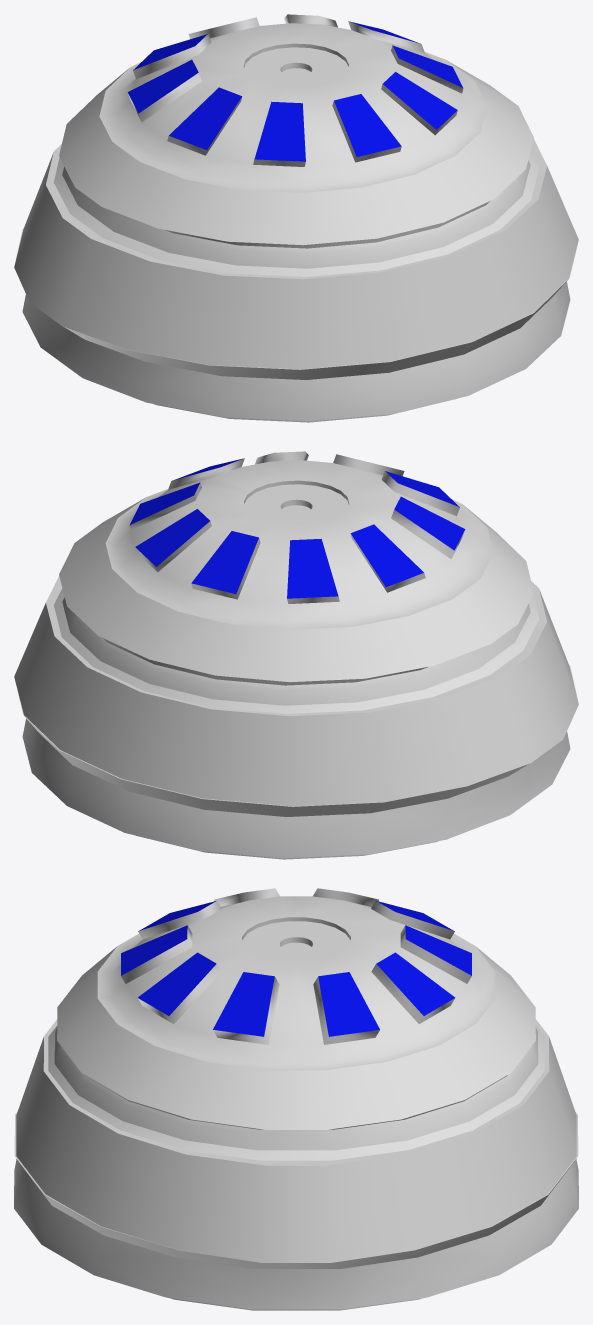
Rendered from museumDome.fbx.
3 renders of one model, top to bottom at view 1: azimuth 30°, elevation 25°; view 2: azimuth 150°, elevation 25°; view 3: azimuth 270°, elevation 25°, orthographic. The views are drawn at different scales.
Parts seen in each view (by area): view 1: Circle.001; view 2: Circle.001; view 3: Circle.001.
Part boxes in pixels (bbox=[...]): Circle.001: bbox=[14, 14, 578, 422]; Circle.001: bbox=[14, 451, 578, 859]; Circle.001: bbox=[14, 888, 578, 1310].
Bounding box in the file's own units: 1689 × 1583 × 824.
